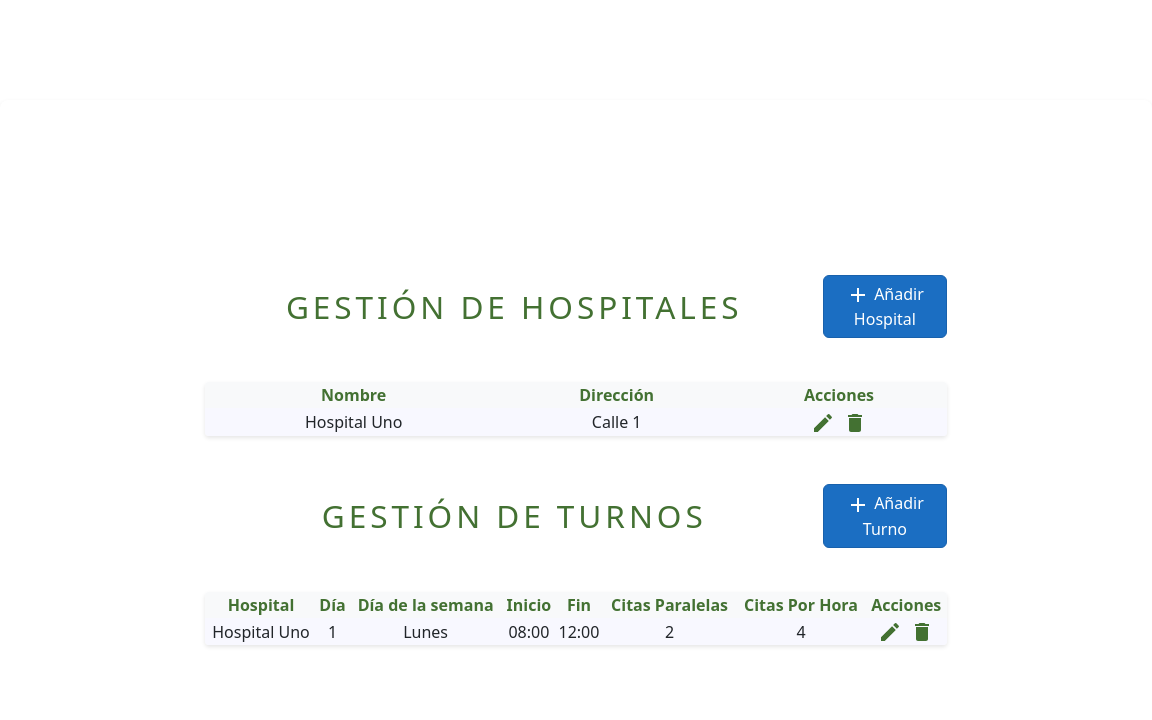
Scenario: (Integration) ScheduleManager › renders hospitals and turns from API and opens add hospital modal
Expected: the text "Hospital Uno" next to "Calle 1" is shown, [305,411,402,433]
Expected: the text "08:00" is shown, [503,618,555,645]
Note: click 'Añadir Hospital' to open add hospital modal
Click the button "Añadir Hospital": (885, 306) [823,275,947,338]
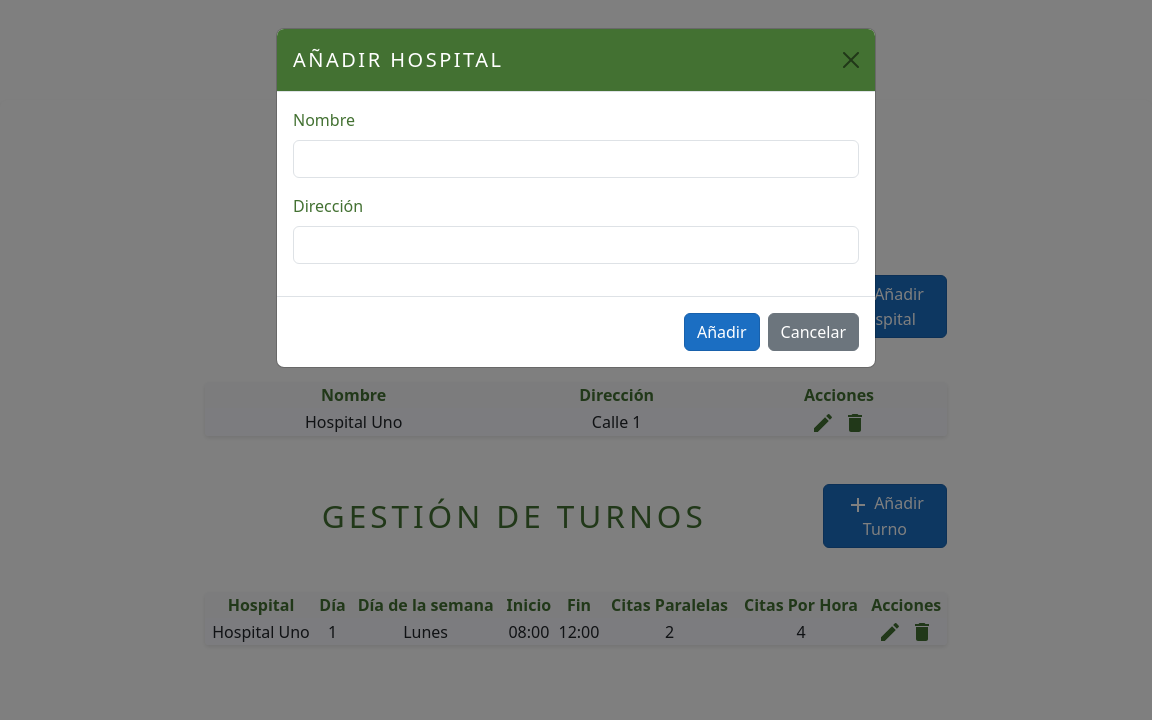
Result: the heading "Añadir Hospital" is shown at [293,45,504,75]
